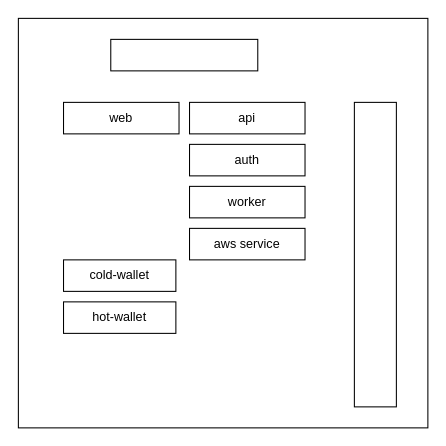
Some shapes in this 446 by 446 pixel diagram are drawn without their labels. The centre of each missing label's shape, as x and y in pixels:
"ingress" goes at point 184,54.
"mysql" goes at point 374,254.
